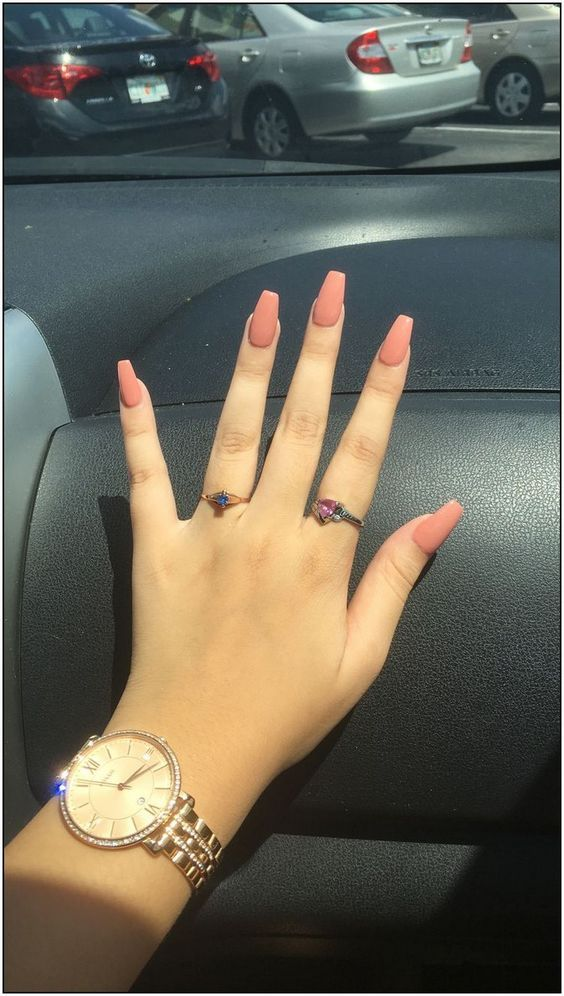nails: (98, 345, 171, 419), (292, 263, 366, 332), (354, 302, 425, 373), (407, 488, 472, 564), (231, 283, 289, 353)
